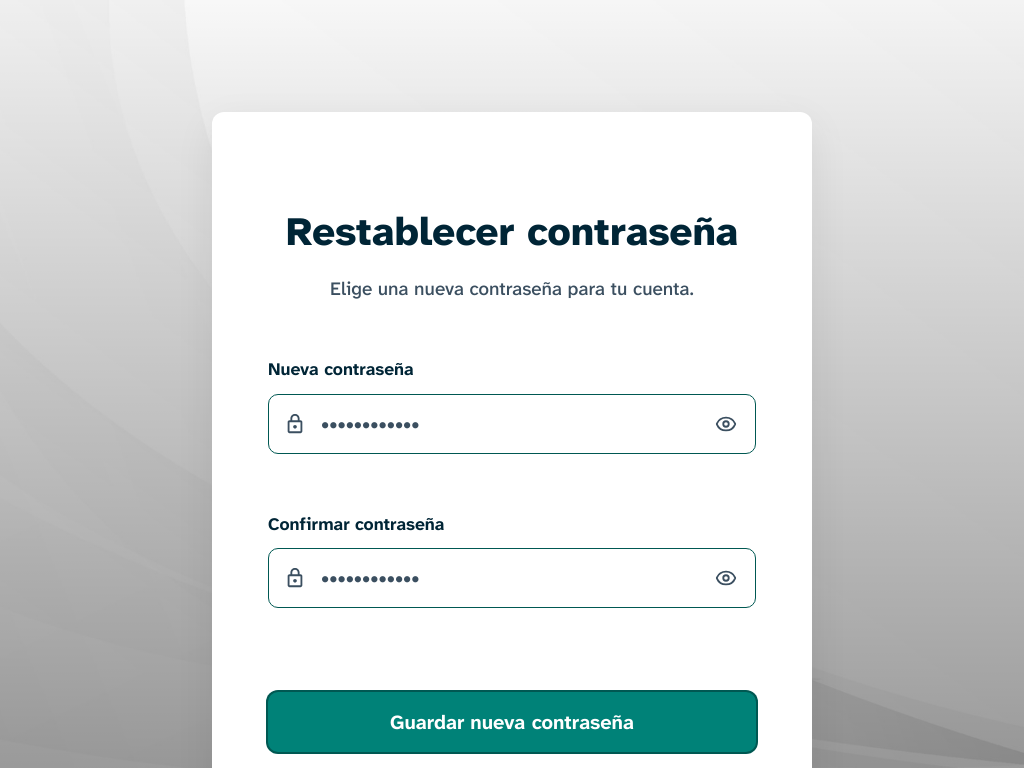
Test case: ResetPasswordPage › requiere una contraseña válida y su confirmación
Type "abc" into the password field labelled "Nueva contraseña" at x=512, y=424, box x1=268 y1=394 x2=756 y2=454
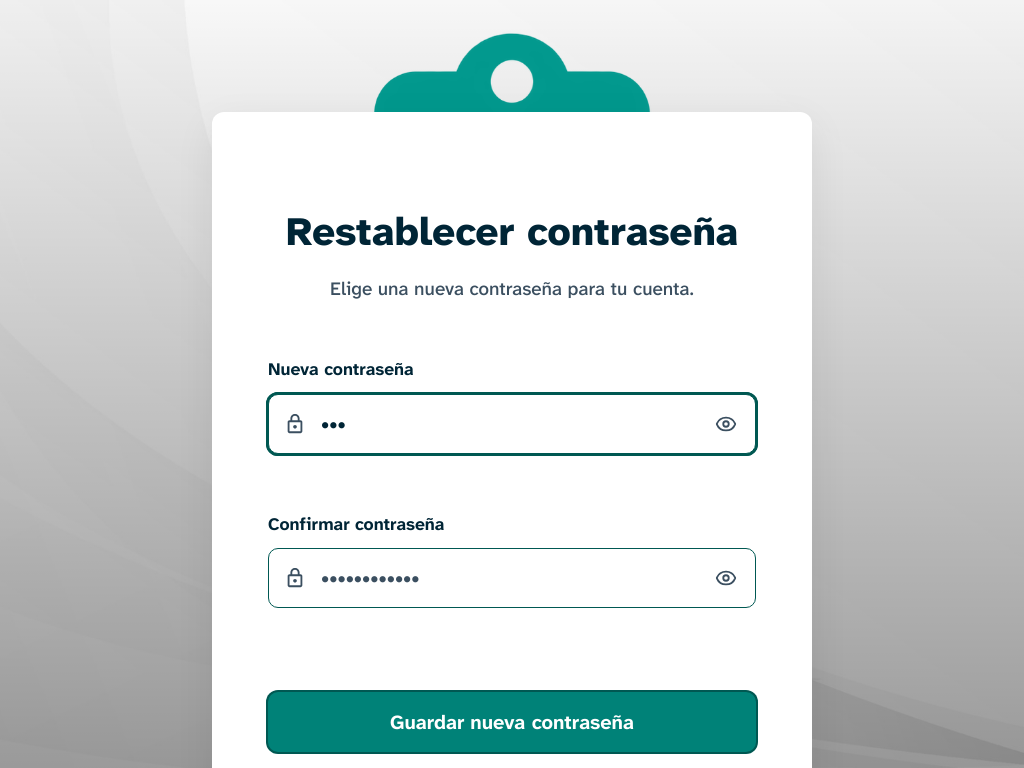
Type "abcd" into the password field labelled "Confirmar contraseña" at x=512, y=578, box x1=268 y1=548 x2=756 y2=608
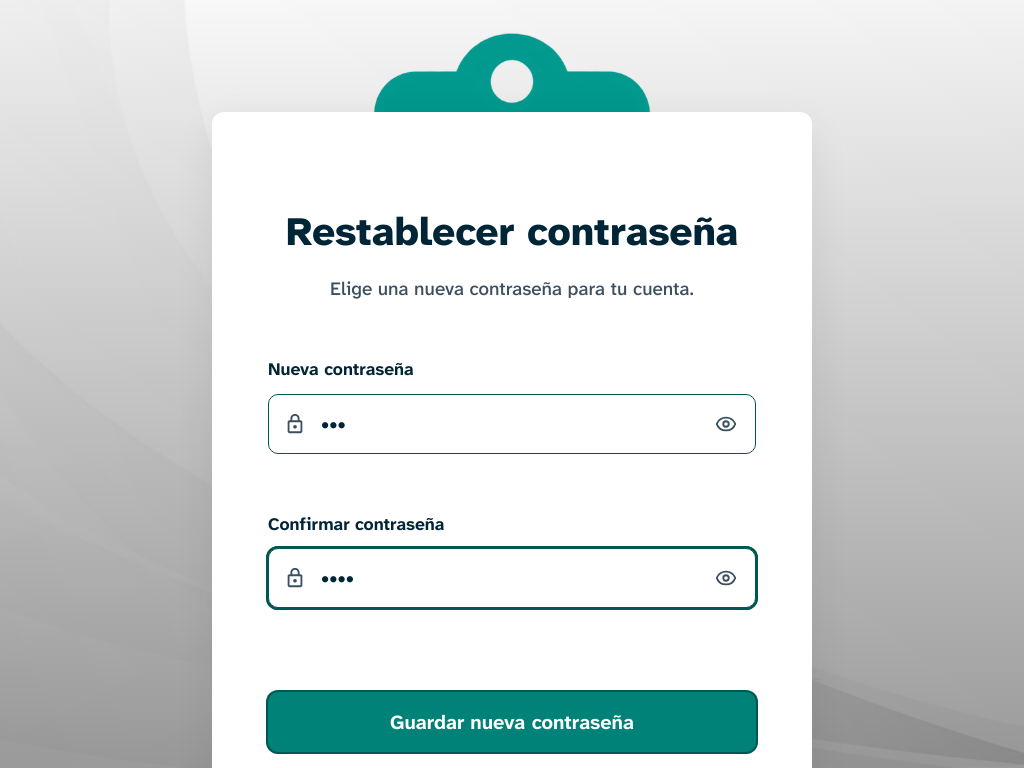
Click the button "Guardar nueva contraseña" at x=512, y=722, box x1=268 y1=692 x2=756 y2=752
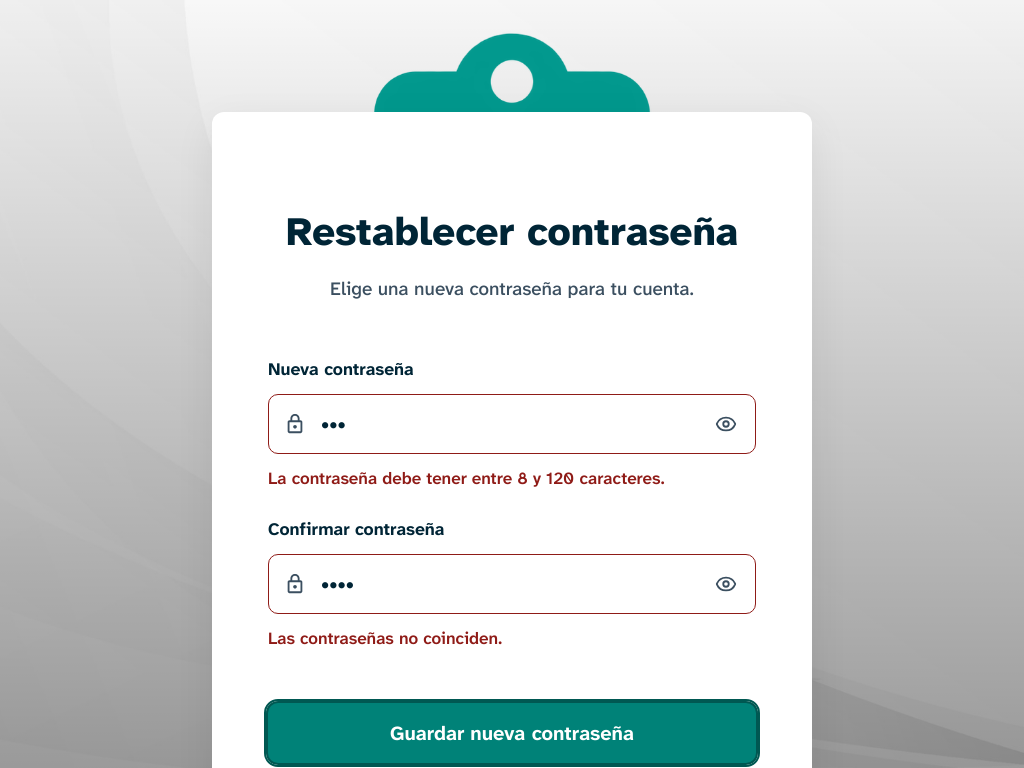
Check: the text "La contraseña debe tener entre 8 y 120 caracteres." is shown, box x1=268 y1=467 x2=665 y2=489
Check: the text "Las contraseñas no coinciden." is shown, box x1=268 y1=627 x2=502 y2=649
